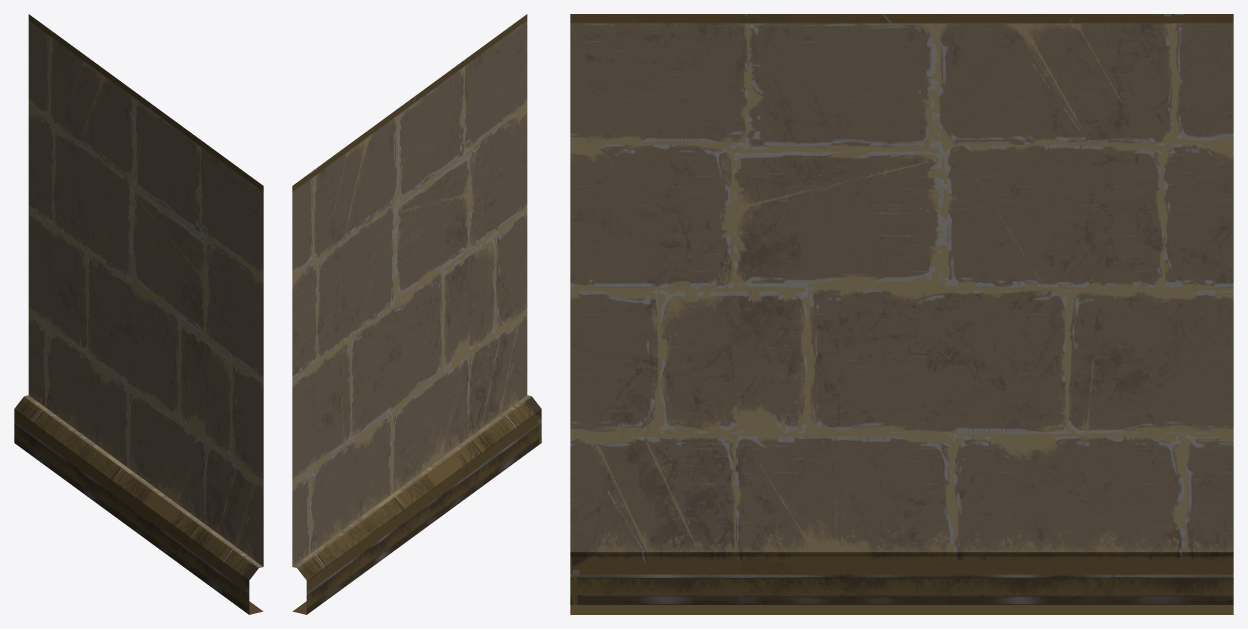
The model's file is wall_1.fbx.
3 views of the same model, side by side, from view 1: azimuth 30°, elevation 25°; view 2: azimuth 150°, elevation 25°; view 3: azimuth 270°, elevation 25° (orthographic). The views are drawn at different scales.
Visible parts, largest first — view 1: Plane.089; view 2: Plane.089; view 3: Plane.089.
Boxes of the visible parts, x1,y1,x2,y2 form: Plane.089: [14, 14, 263, 614]; Plane.089: [292, 14, 541, 614]; Plane.089: [570, 14, 1233, 614].
Bounding box in the file's own units: 7.03 × 200 × 200.
